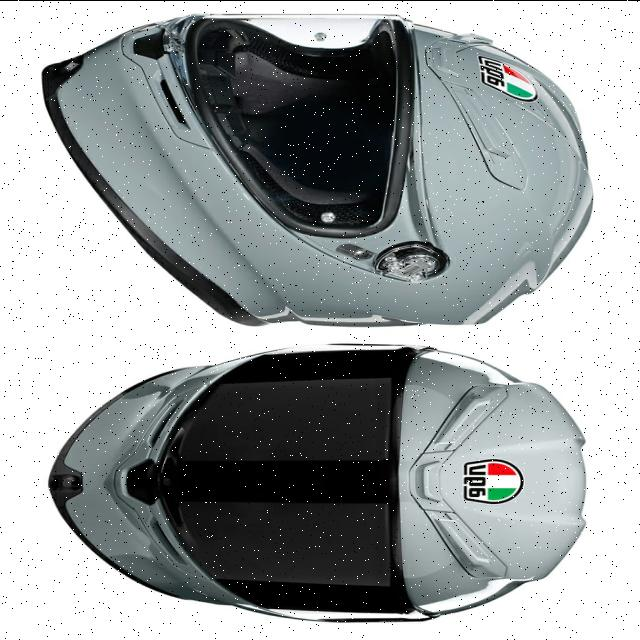Helmet: (40, 12, 594, 327), (47, 351, 584, 612)
